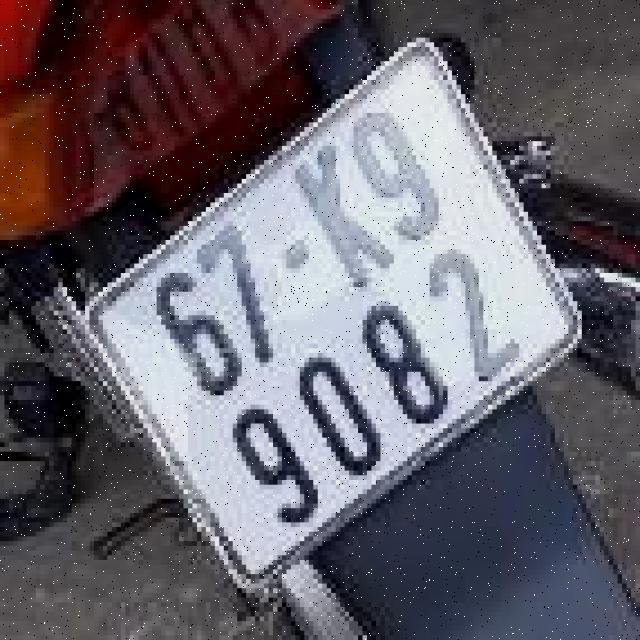0: (276, 333, 400, 490)
2: (410, 232, 534, 396)
6: (135, 248, 253, 407)
7: (187, 208, 303, 378)
8: (345, 282, 463, 442)
9: (324, 87, 463, 266), (210, 391, 331, 538)
K: (278, 130, 408, 302)
